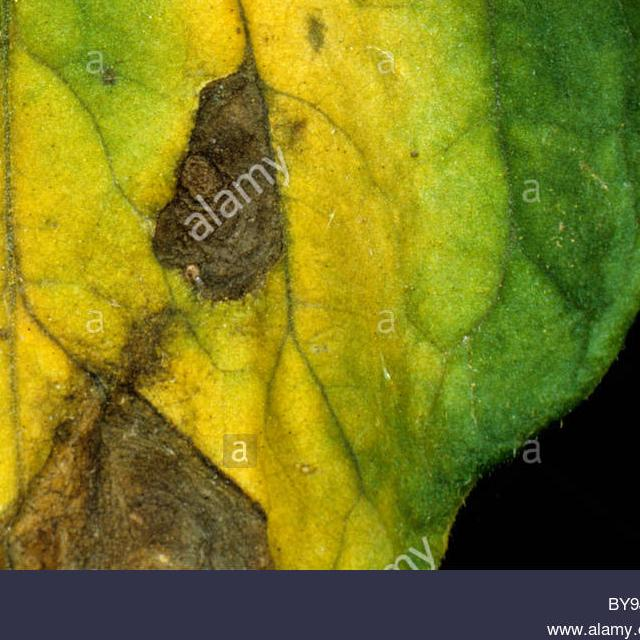Tomato Early blight leaf: (0, 0, 640, 558)
